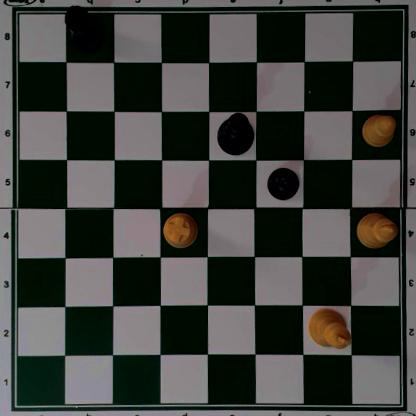black-king: (215, 111, 255, 155)
black-pawn: (267, 165, 299, 201)
black-rook: (64, 4, 106, 54)
white-bishop: (356, 212, 399, 251)
white-king: (308, 308, 351, 349)
white-pawn: (360, 112, 397, 147)
white-rook: (163, 212, 199, 249)
